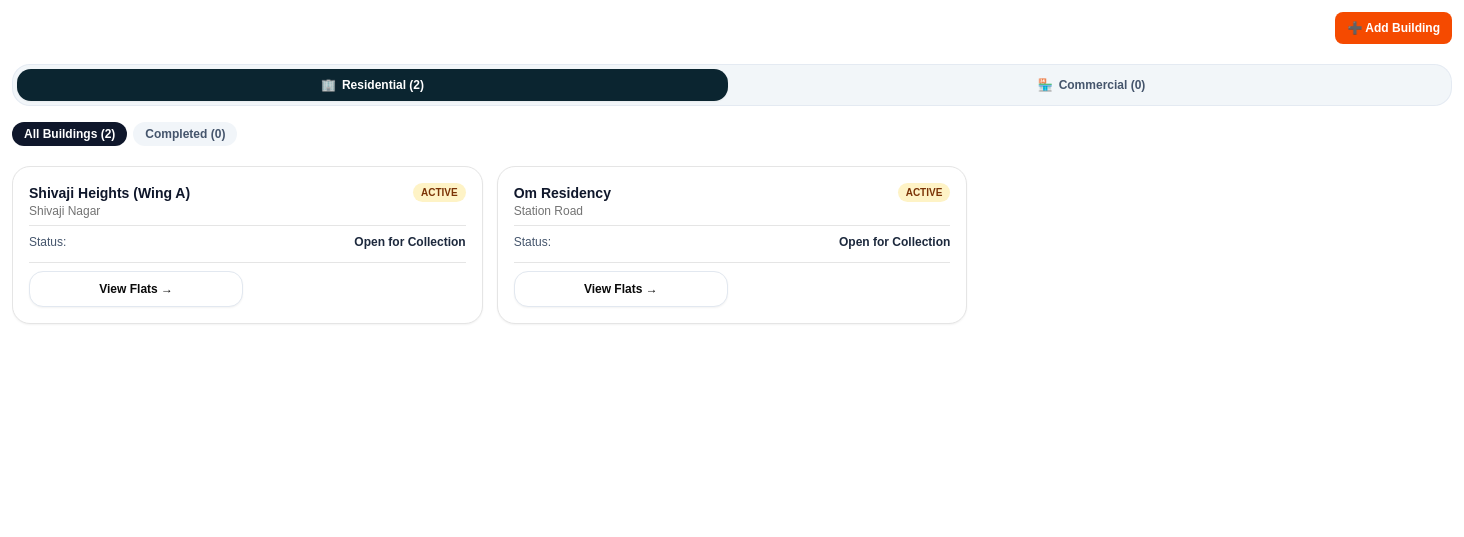
Test: Phase 2I: BuildingsManagementPanel Component › renders building list and switches to building detail when clicked
The width and height of the screenshot is (1464, 537).
Check: the heading "Shivaji Heights (Wing A)" is shown, box [29,183,190,203]
Check: the heading "Om Residency" is shown, box [514,183,611,203]
Click on View Flats button
Click the button "View Flats →" below "Shivaji Nagar": (136, 289) [29,271,243,307]
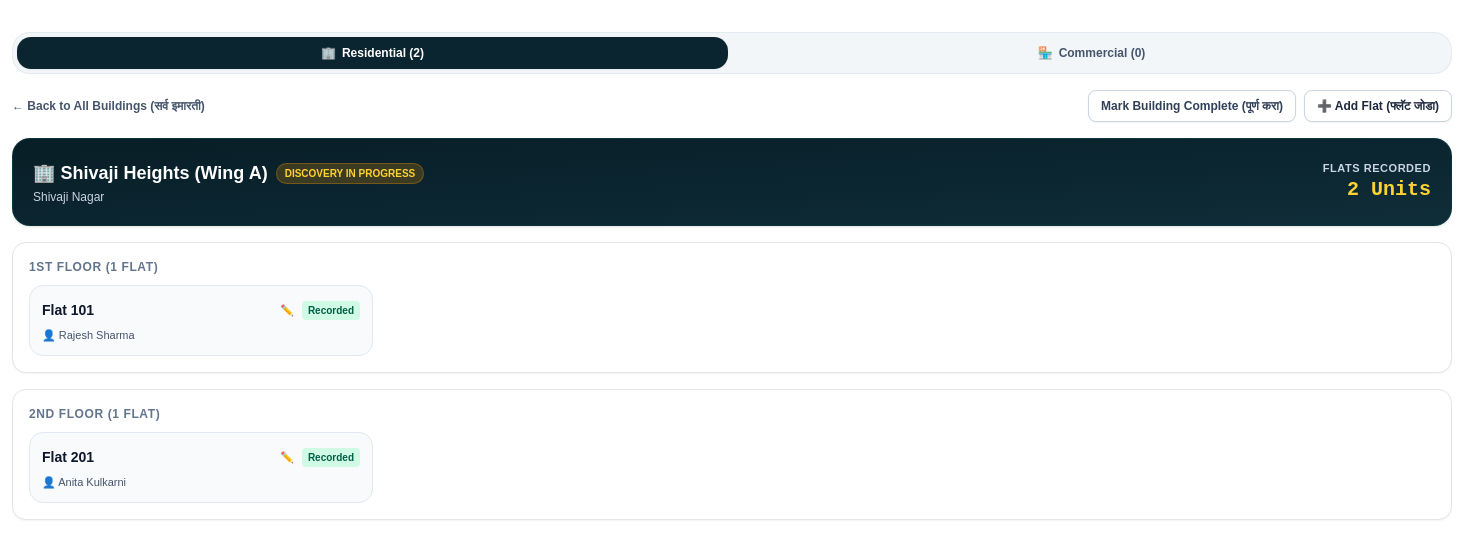
Check: the heading "2nd Floor (1 flat)" is shown, box [29,406,160,422]
Check: the heading "1st Floor (1 flat)" is shown, box [29,259,158,275]
Check: the text "Flat 101" is shown, box [42,300,94,320]
